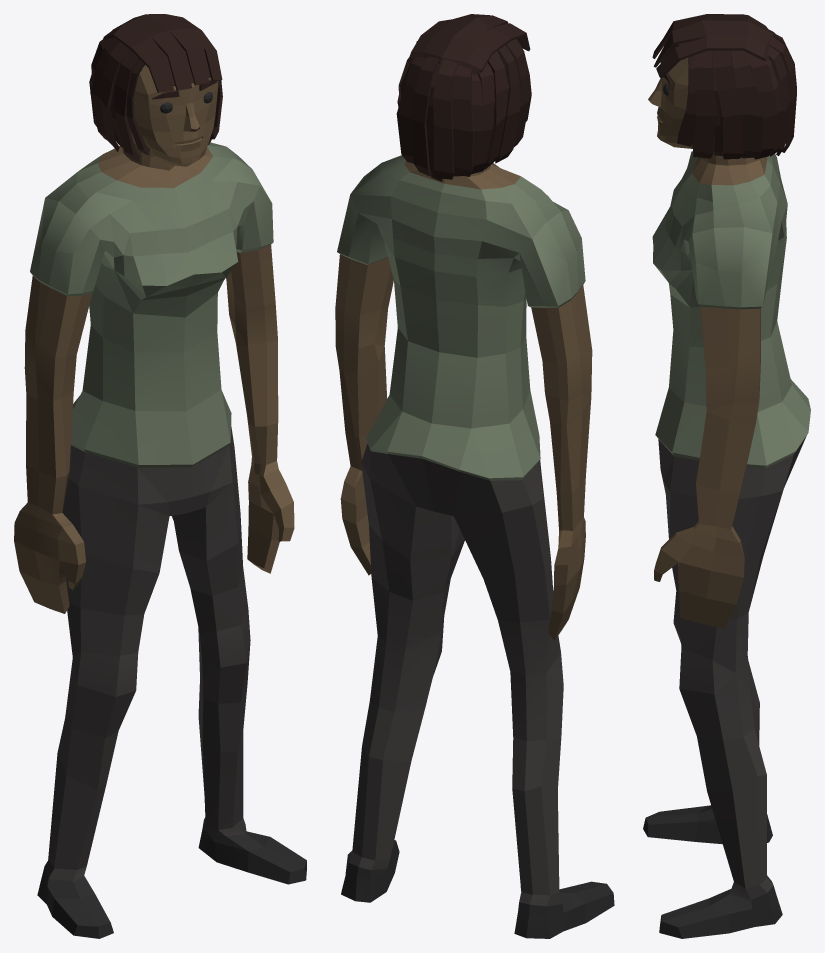
File: person_w.glb
The picture shows the model from 3 angles, left to right: view 1: azimuth 30°, elevation 25°; view 2: azimuth 150°, elevation 25°; view 3: azimuth 270°, elevation 25°; orthographic projection. The views are drawn at different scales.
Visible parts, largest first — view 1: Female; view 2: Female; view 3: Female.
Boxes of the visible parts, x1,y1,x2,y2 form: Female: (14,14,306,938); Female: (335,14,614,938); Female: (643,14,810,938).
Bounding box in the file's own units: 1.4 × 4.62 × 0.8204.
